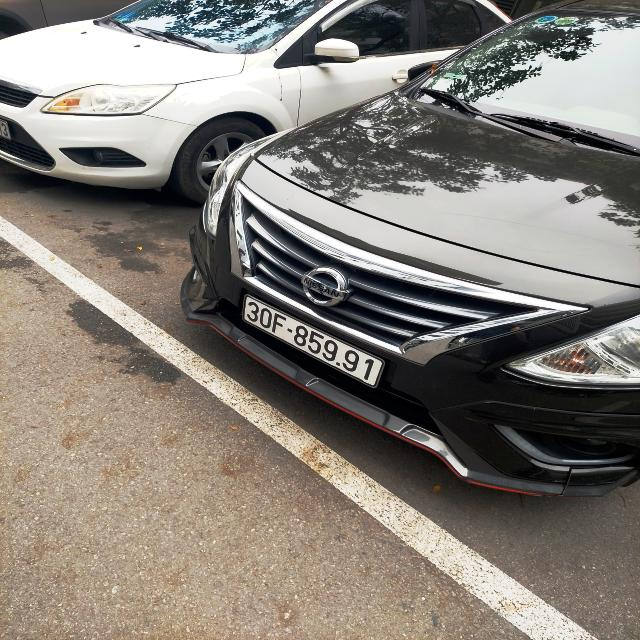license_plate: (246, 296, 382, 385)
